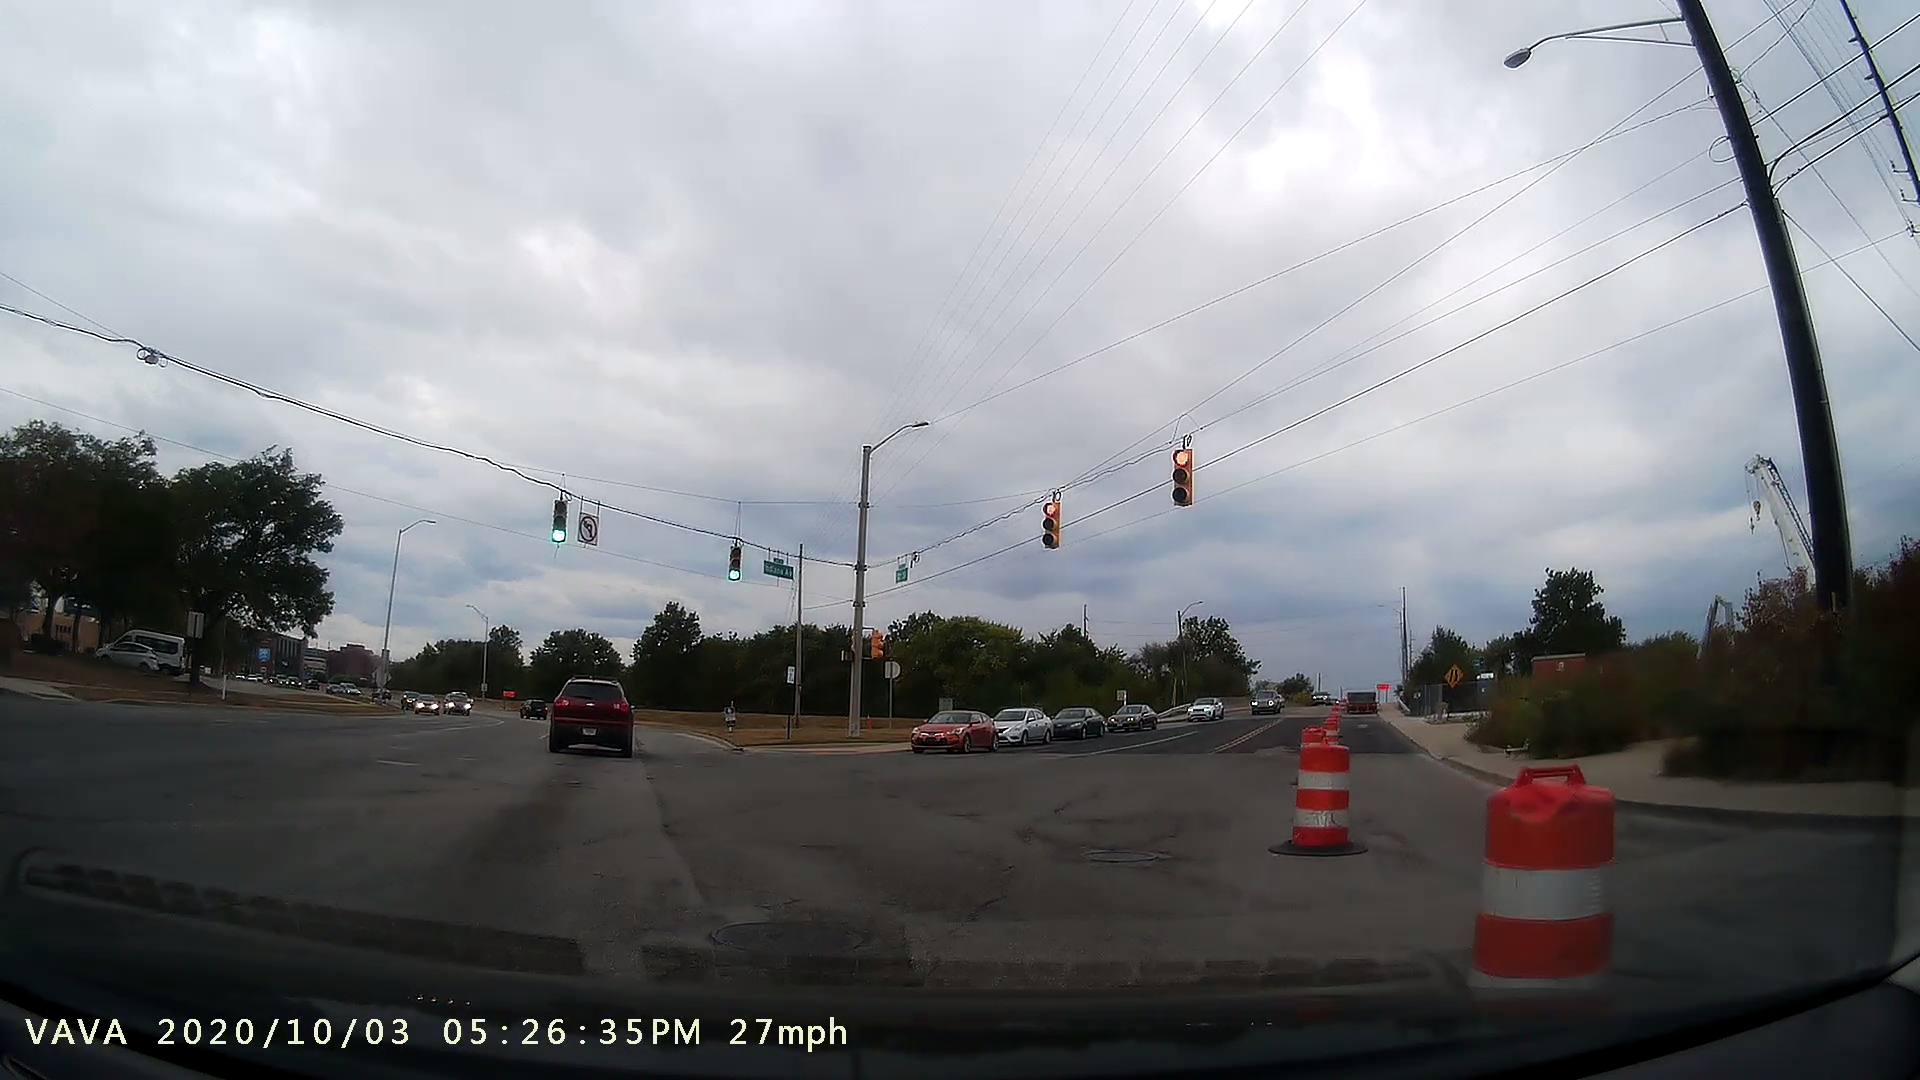const_barrel: (1259, 742, 1375, 864)
